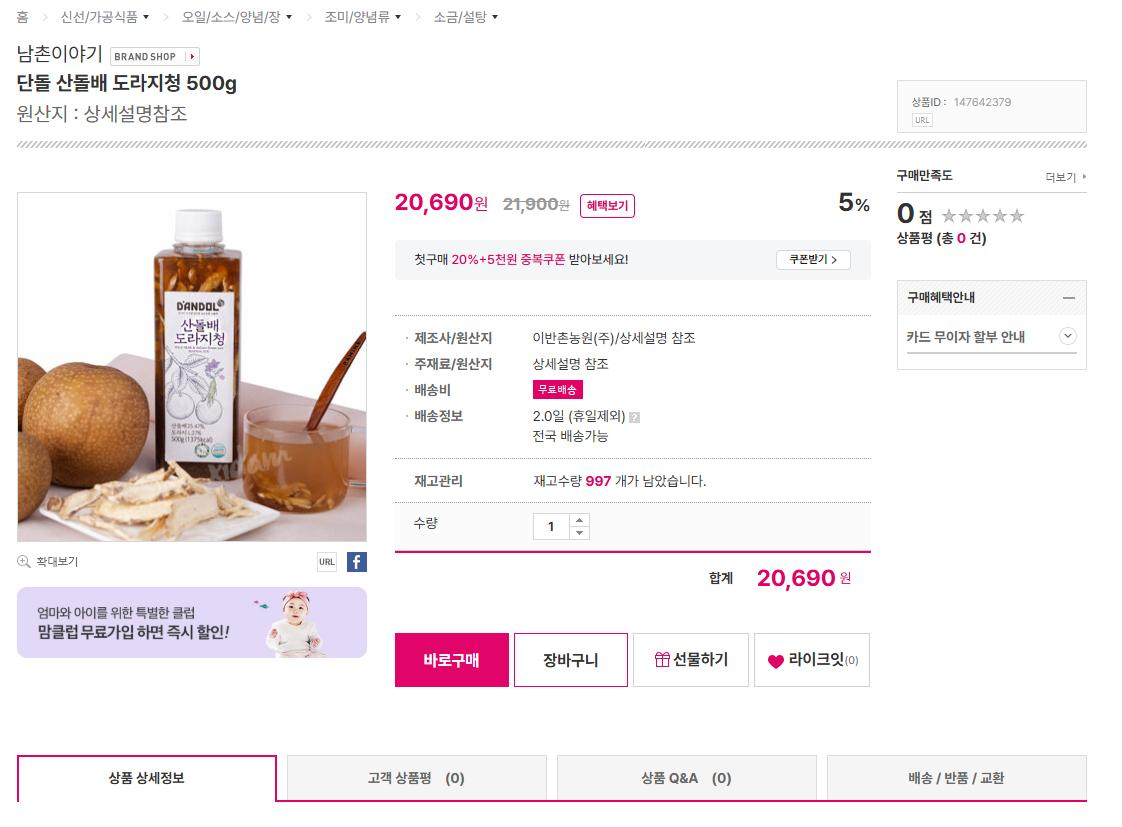button: (13, 761, 269, 808), (282, 758, 545, 803), (550, 762, 818, 804), (829, 758, 1090, 801), (755, 632, 869, 686), (395, 636, 509, 687), (633, 636, 746, 687), (517, 636, 626, 688), (776, 249, 851, 271), (1038, 166, 1093, 185), (1062, 328, 1078, 344), (572, 516, 587, 528), (572, 529, 587, 538)
popup: (20, 587, 368, 656)
